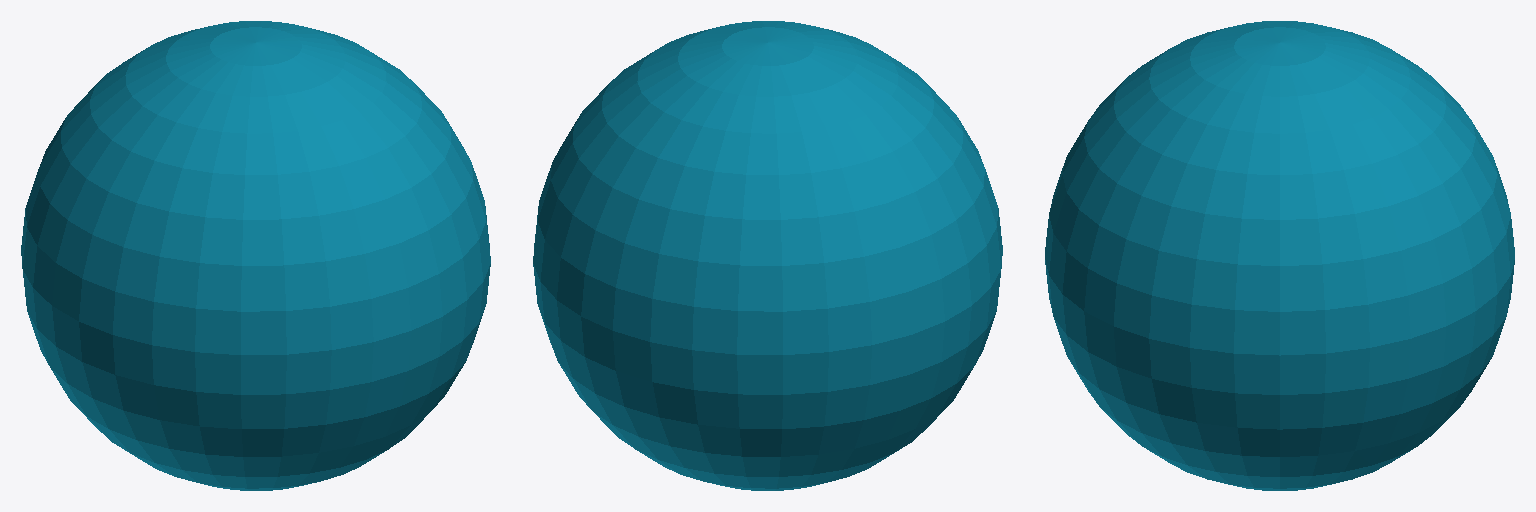
The model's file is earth.obj.
3 renders of one model, left to right at view 1: azimuth 30°, elevation 25°; view 2: azimuth 150°, elevation 25°; view 3: azimuth 270°, elevation 25°, orthographic.
Parts seen in each view (by area): view 1: Sphere002; view 2: Sphere002; view 3: Sphere002.
Part boxes in pixels (left/top/right/bottom): Sphere002: left=21, top=21, right=490, bottom=490; Sphere002: left=533, top=21, right=1002, bottom=490; Sphere002: left=1045, top=21, right=1514, bottom=490.
Bounding box in the file's own units: 27.62 × 27.62 × 27.62.